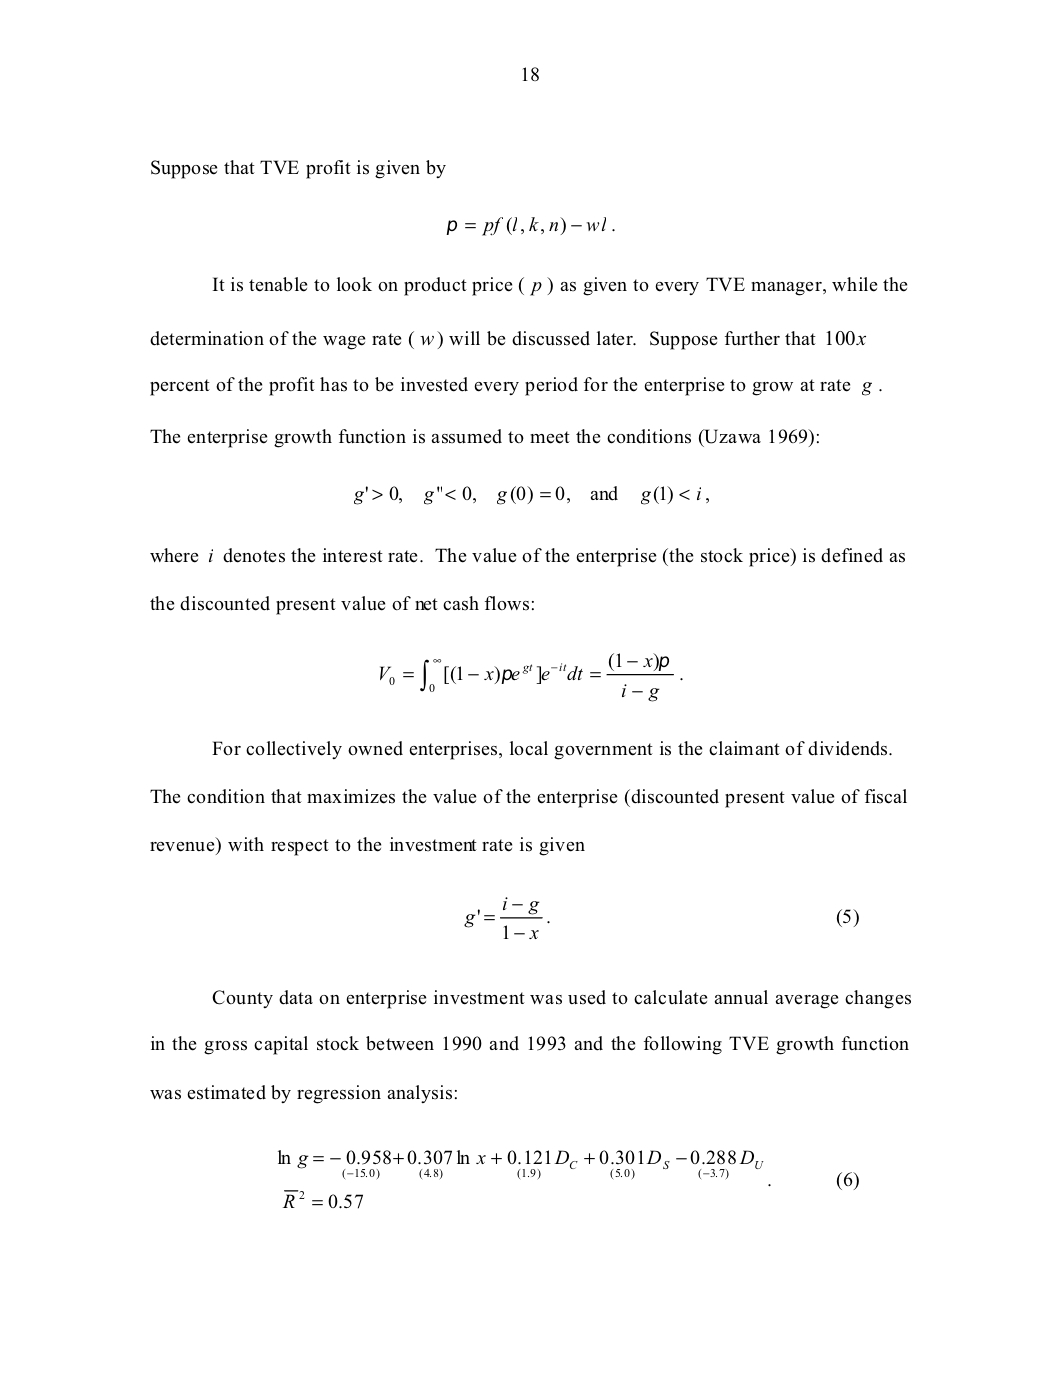formula: (278, 1149, 858, 1209), (464, 895, 858, 939), (379, 652, 682, 702), (354, 485, 708, 505), (446, 216, 614, 236)
